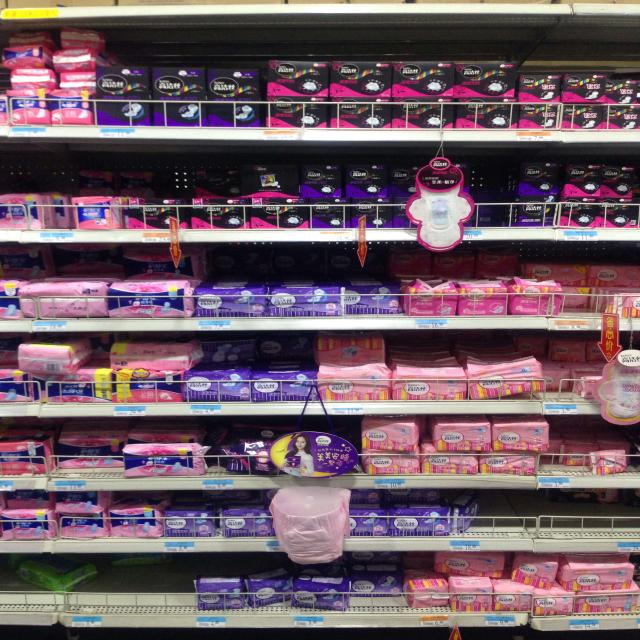empty: (462, 489, 570, 538), (94, 566, 197, 609)
